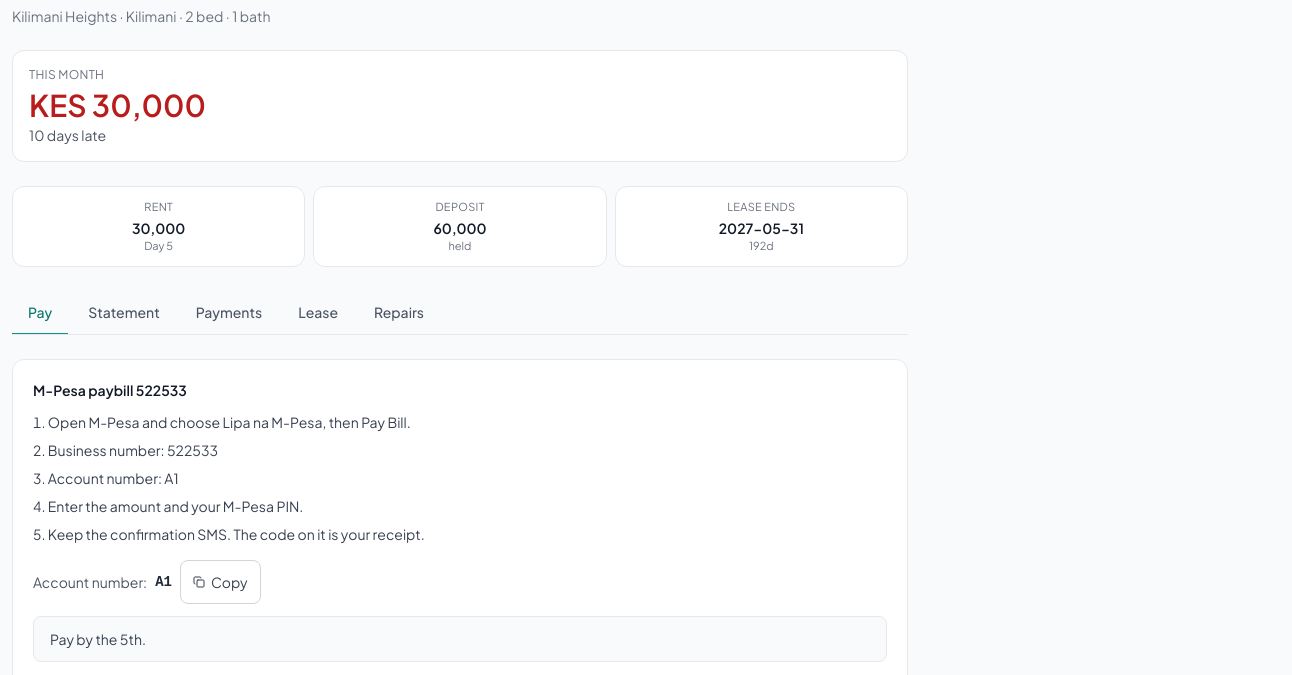
Test: the tenant cannot write anything › says photos are not supported rather than offering a dead control
Click the tab "Repairs" at (399, 313), box left=358, top=291, right=440, bottom=335
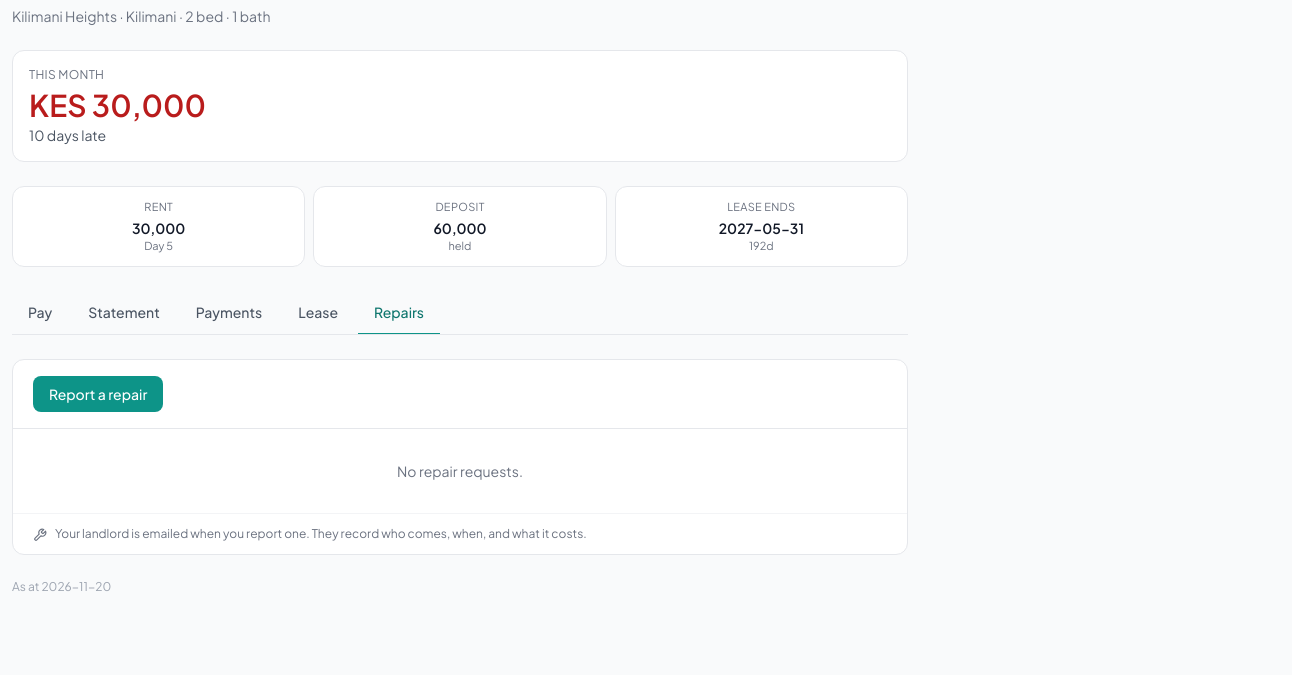
Click the button "Report a repair" at (98, 394), box left=33, top=376, right=163, bottom=412
(page scrolled)
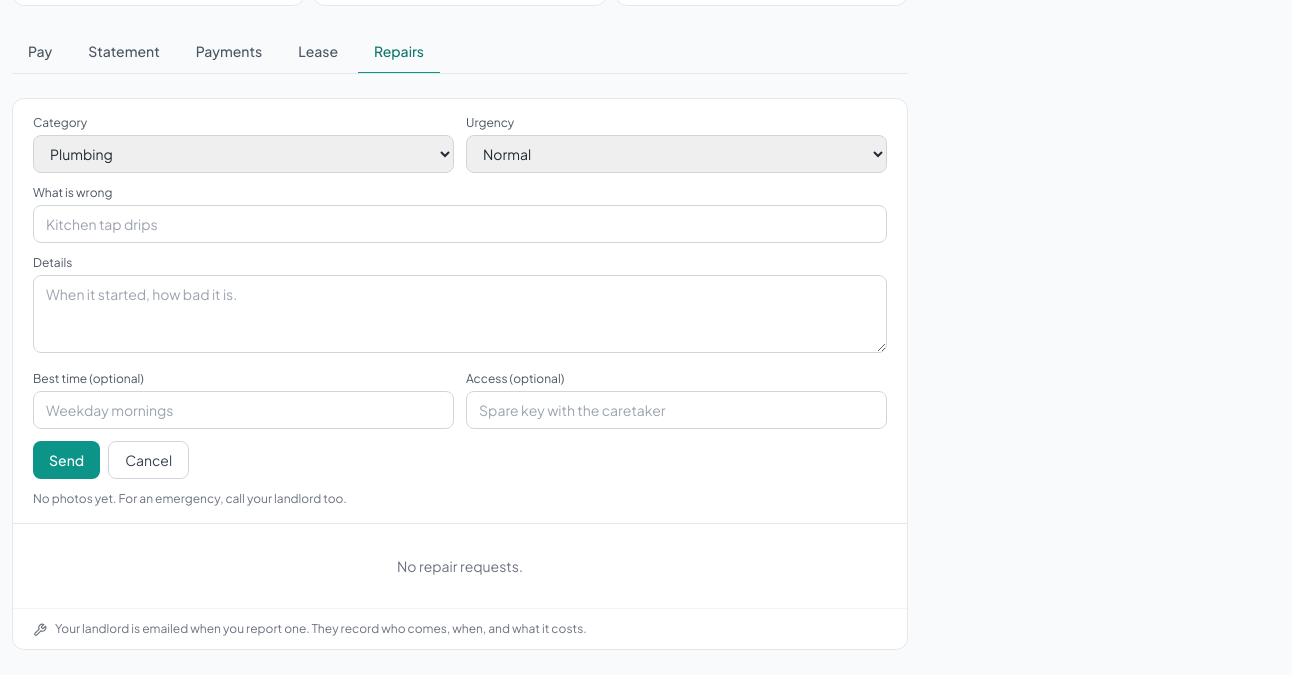
Expected: the text "No photos yet. For an emergency, call your landlord too." is shown, left=33, top=491, right=347, bottom=506
